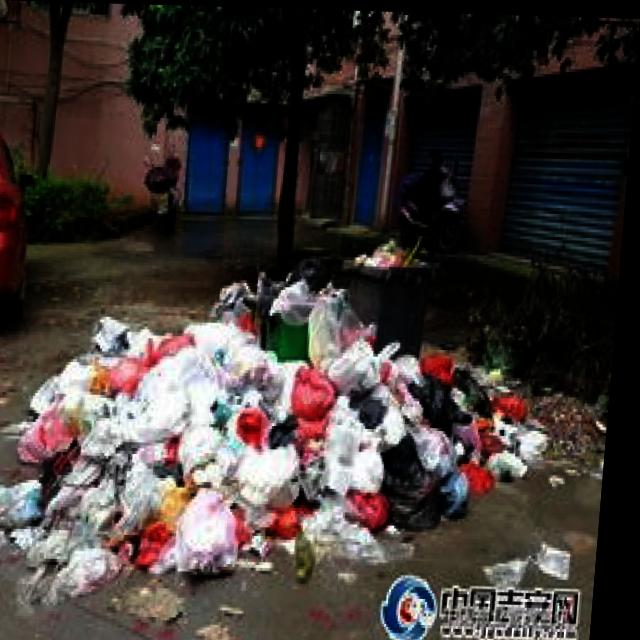garbage: (0, 246, 565, 633)
overflow: (338, 231, 440, 350)
